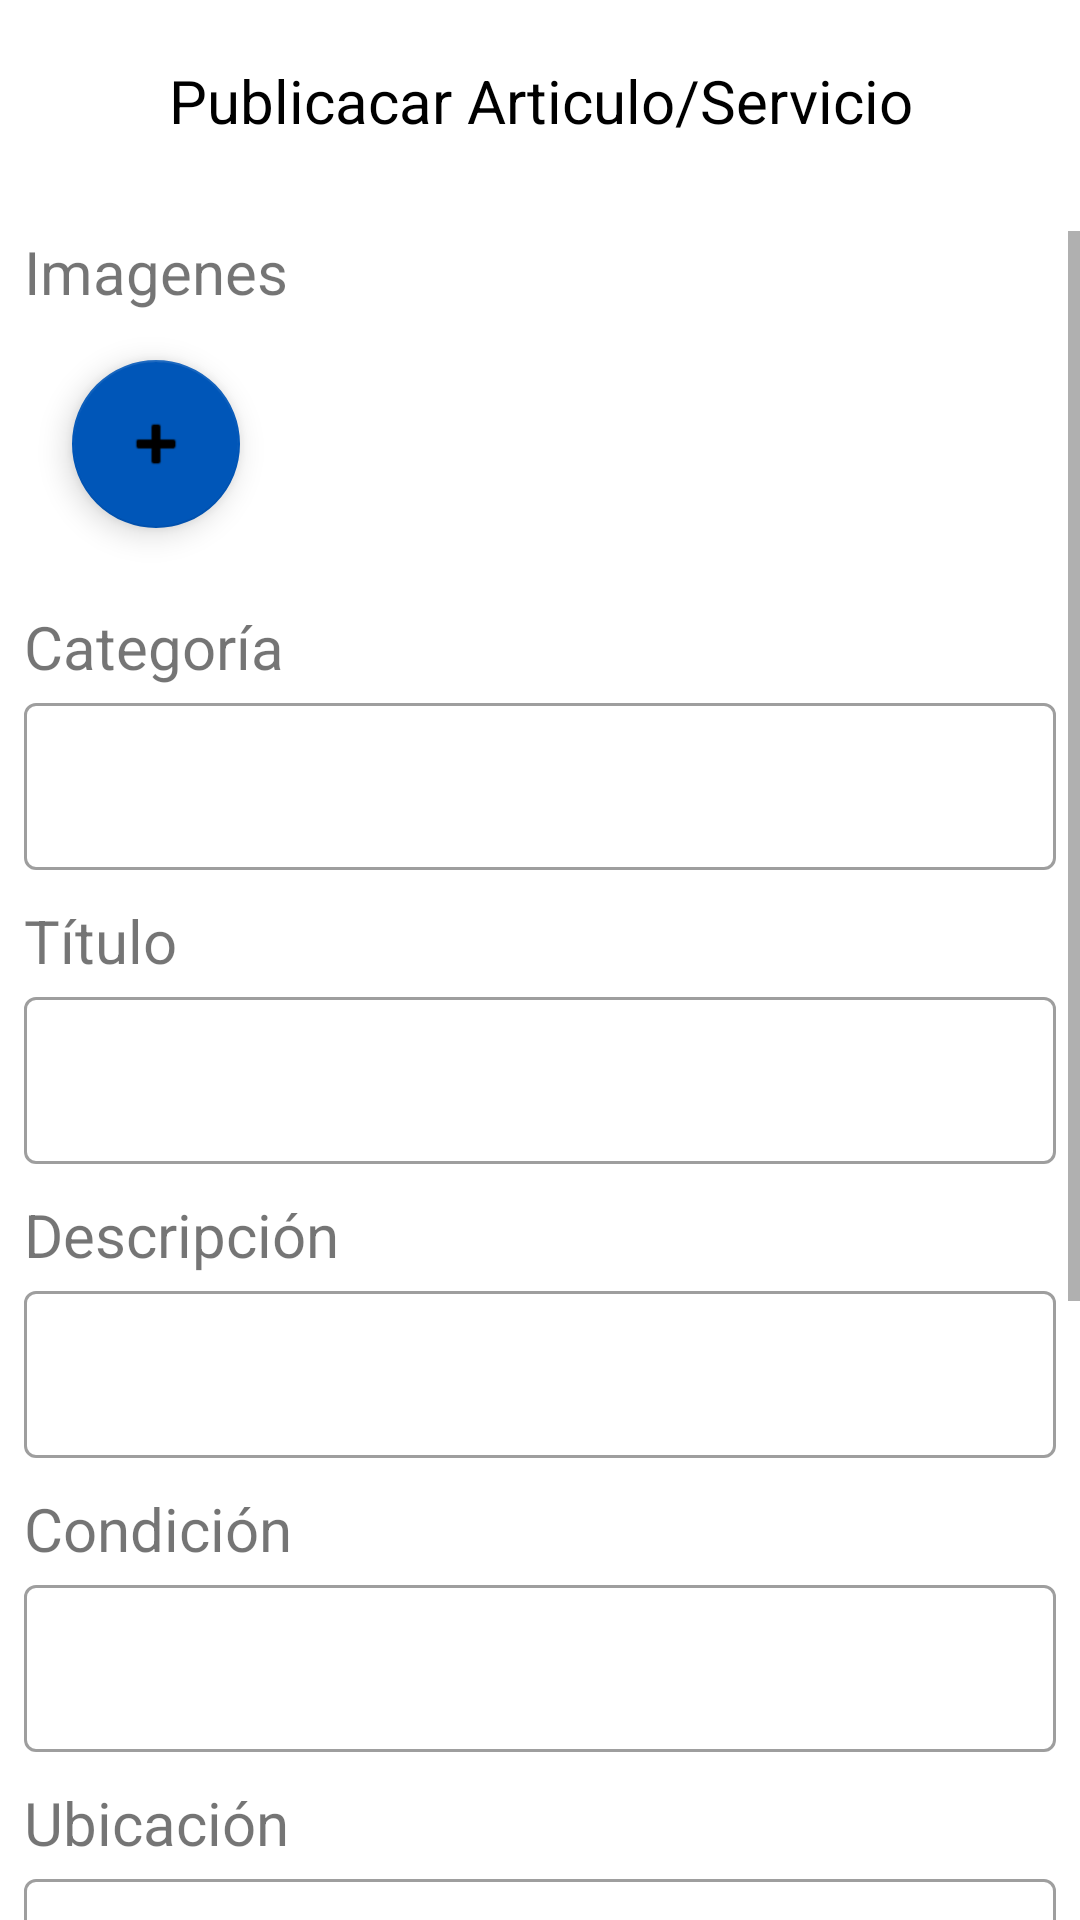

Point at icon controls on the screen. Image size 1080w x 1920h, points as point (x, y).
Agregar Imagen: point (156, 444)
